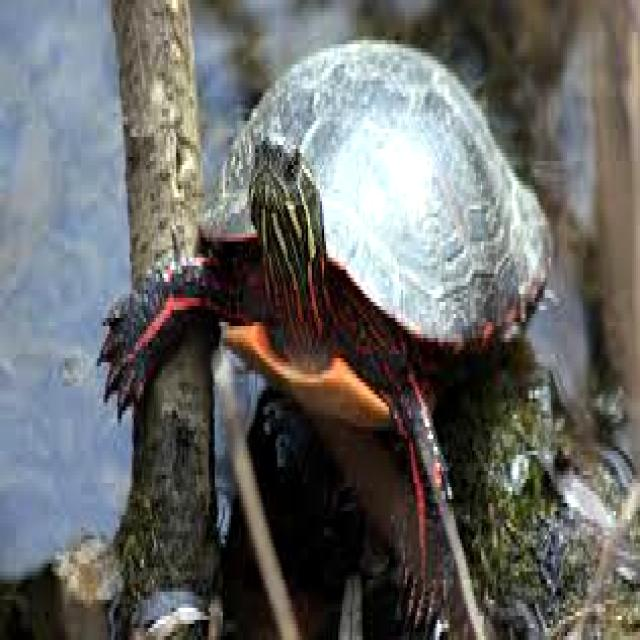Sea turtle: (97, 33, 554, 577)
